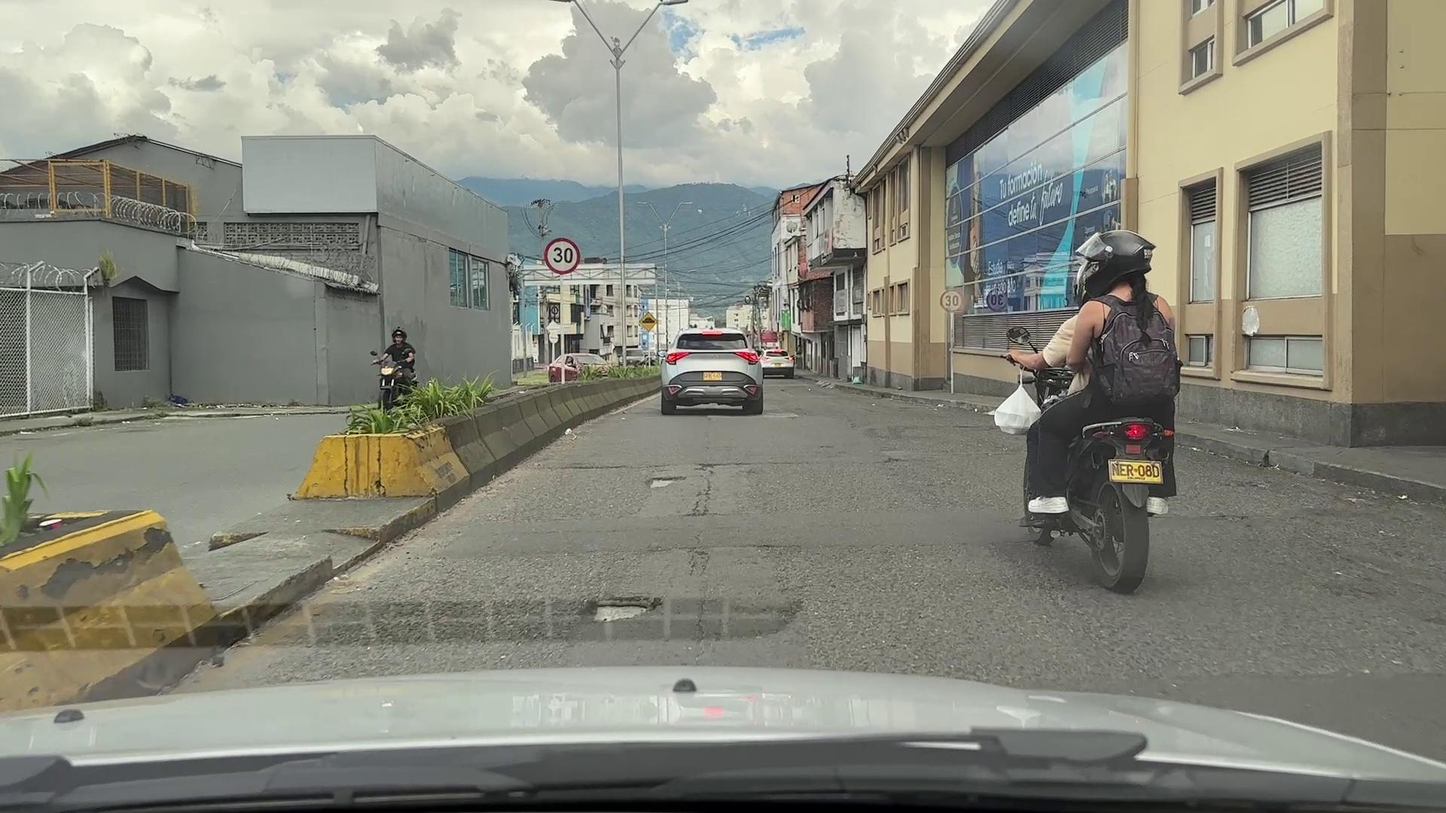bache: (594, 604, 649, 623), (649, 478, 679, 489)
grieta: (682, 479, 729, 517), (694, 462, 754, 476)
